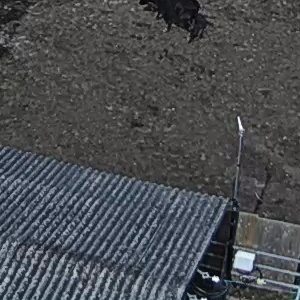cow: (140, 3, 215, 40)
